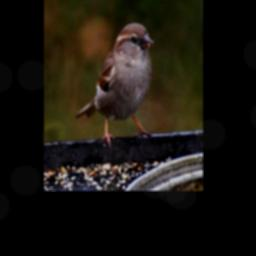Sparrow: (75, 21, 156, 150)
